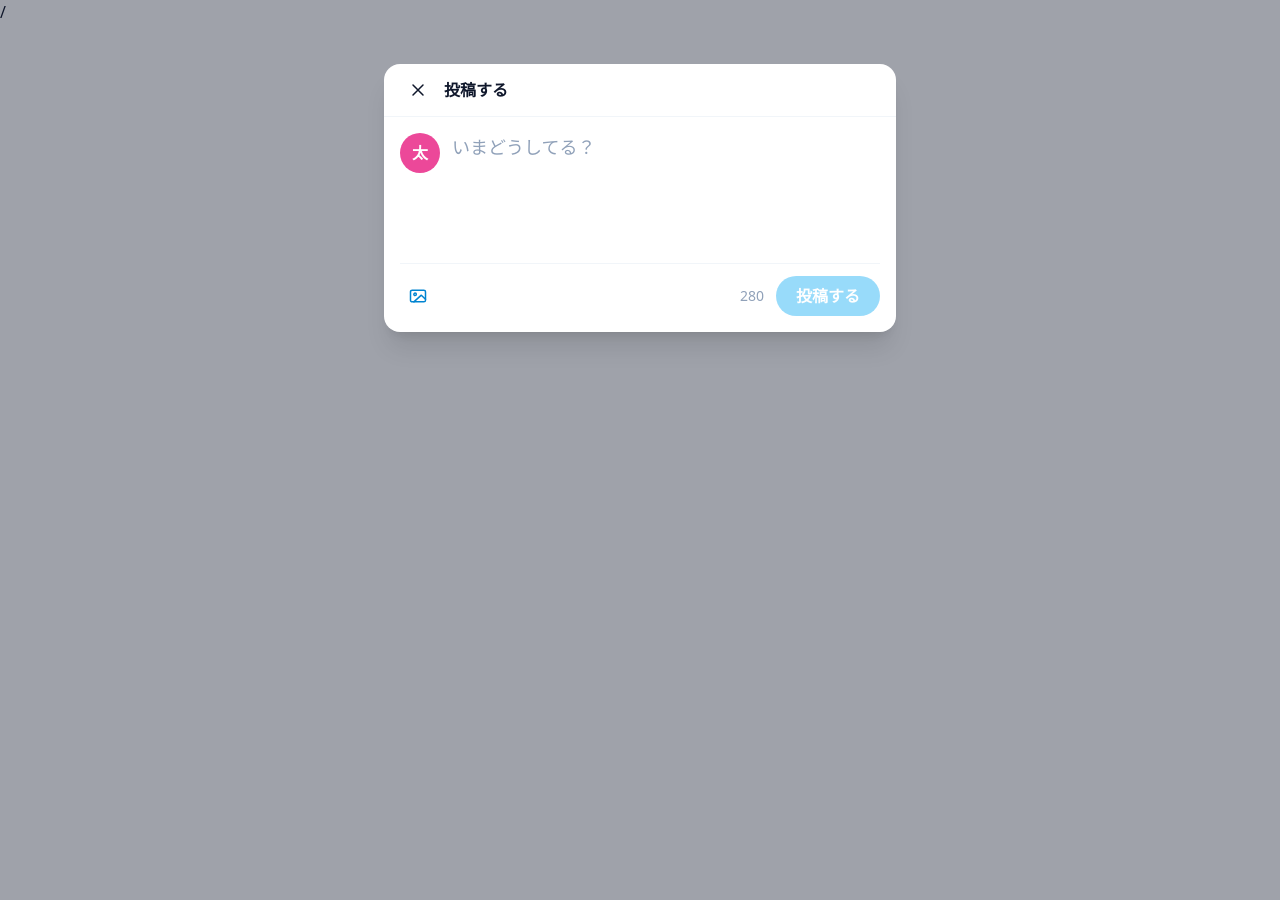
Scenario: ComposeModal › サーバーの入力エラーを出し、閉じない
The image size is (1280, 900).
Type "こんにちは" into the text box with placeholder "いまどうしてる？". click: (666, 189)
box: [452,133,880,245]
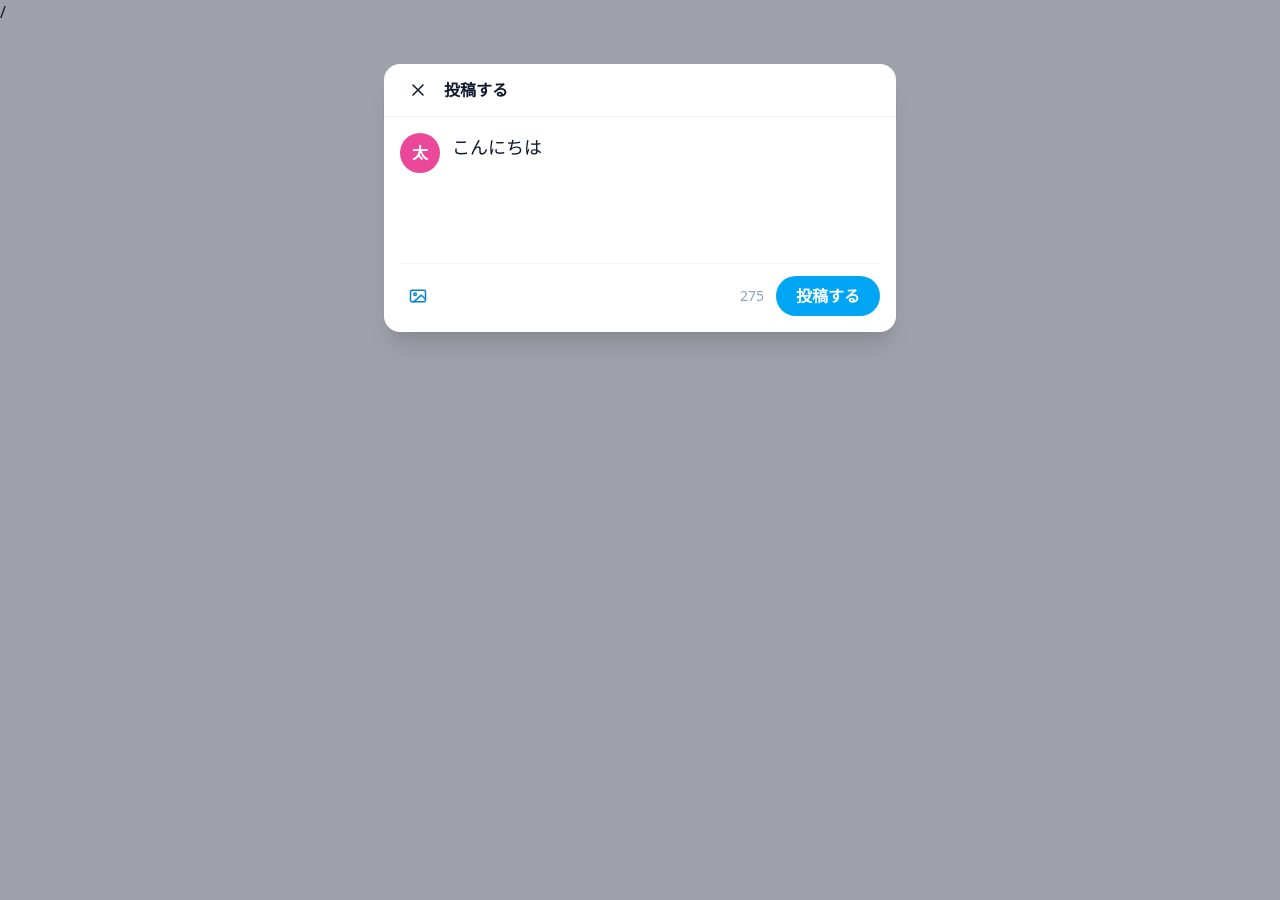
Click the button "投稿する". click: (828, 296)
box: [776,276,880,316]
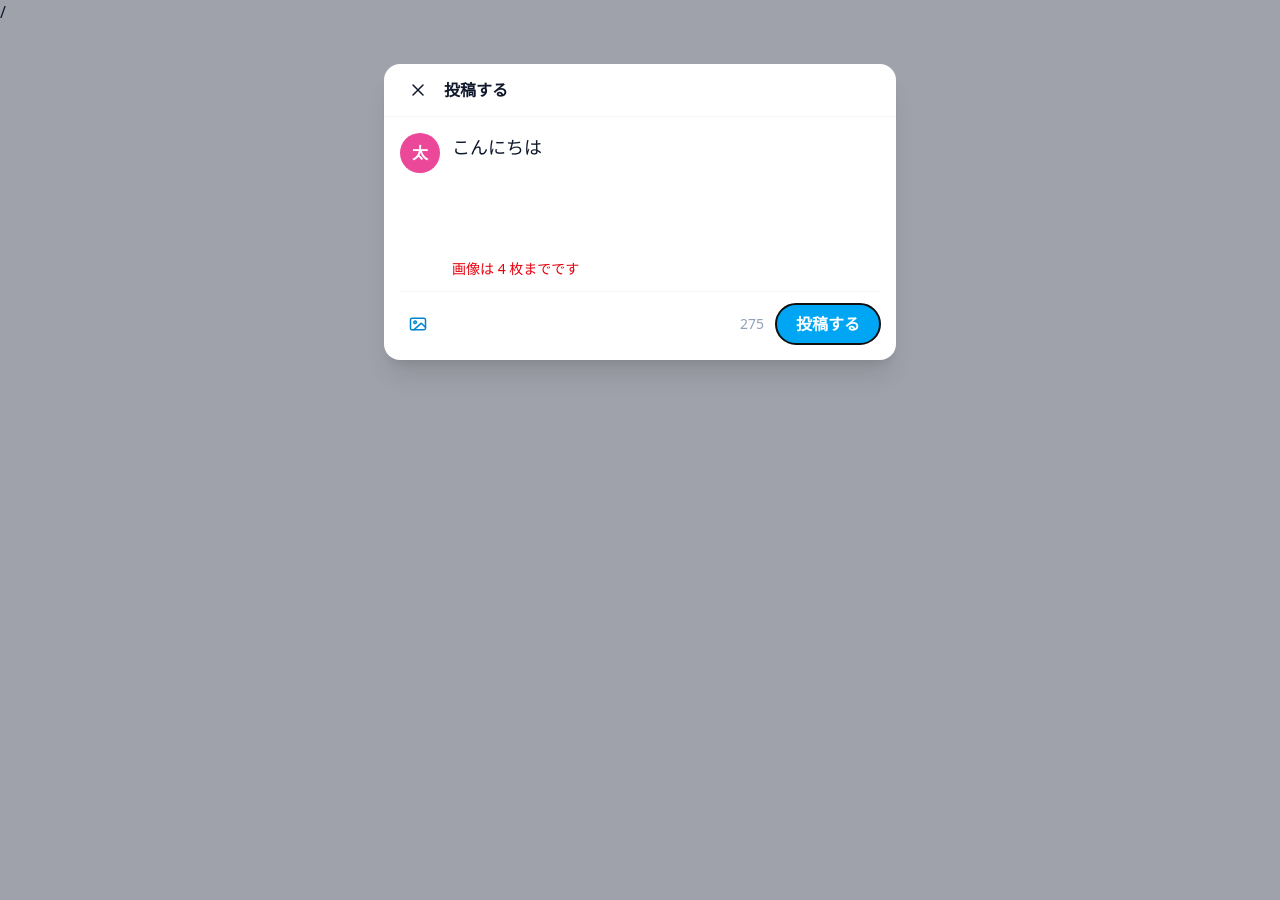
Result: the message reads "画像は 4 枚までです" at [452,259,579,278]
